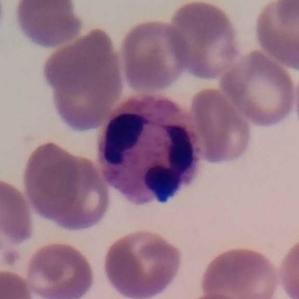Neutrophil: (92, 89, 208, 213)
RBC: (41, 24, 126, 132), (28, 150, 114, 234), (164, 0, 244, 82), (218, 48, 298, 129), (100, 226, 185, 299), (116, 16, 192, 94), (186, 84, 254, 167), (18, 137, 84, 220), (197, 243, 282, 299), (22, 238, 97, 299), (11, 0, 86, 50), (250, 0, 299, 70), (0, 175, 36, 257), (276, 234, 299, 299), (0, 267, 36, 299), (273, 1, 299, 35)
